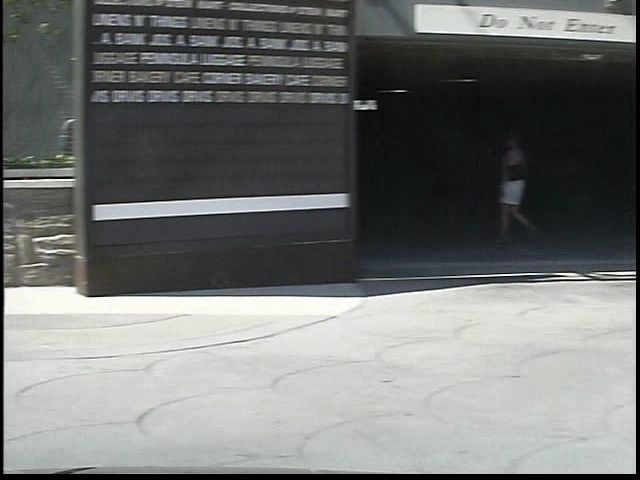person: (468, 127, 528, 249)
